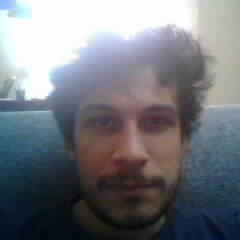without_mask: (72, 63, 186, 229)
